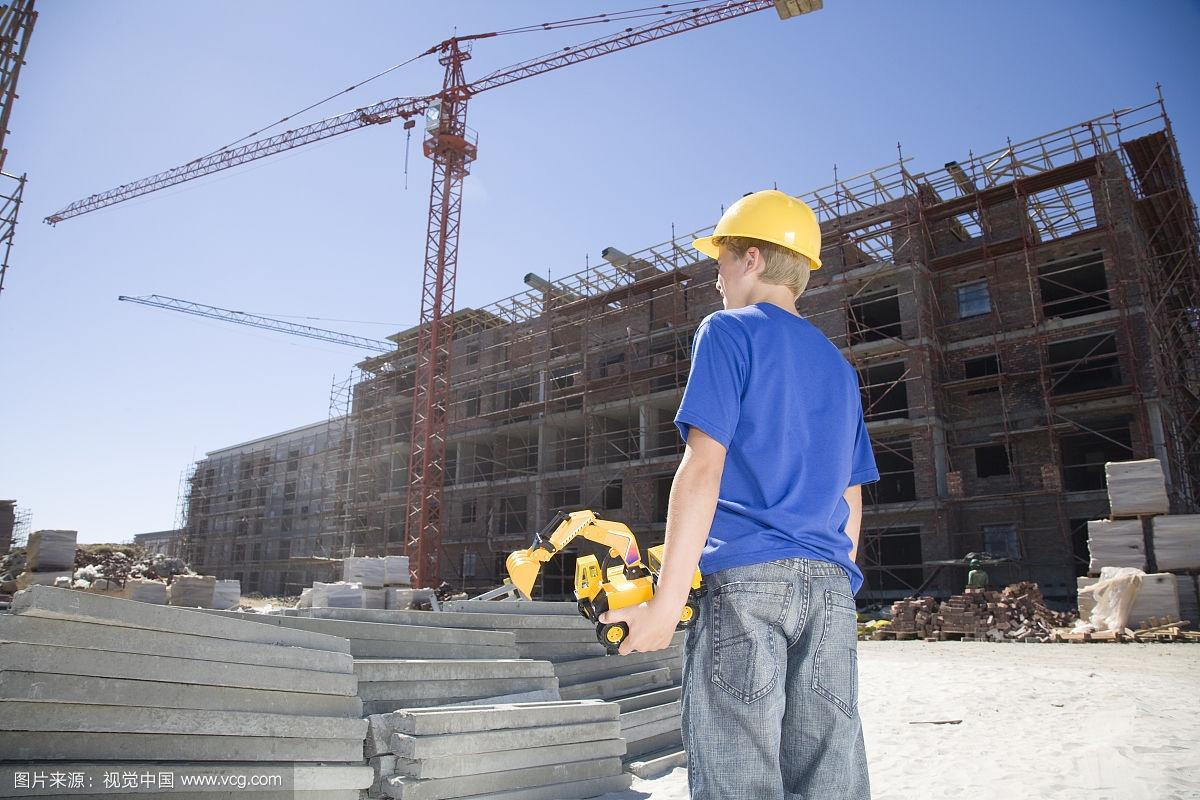helmet: (685, 190, 826, 316)
not_reflective: (663, 297, 885, 570)
